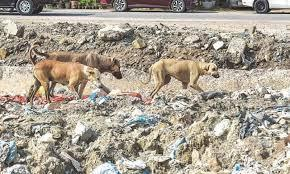normal_dogs: (26, 36, 130, 80), (20, 58, 105, 102), (148, 53, 226, 100)
